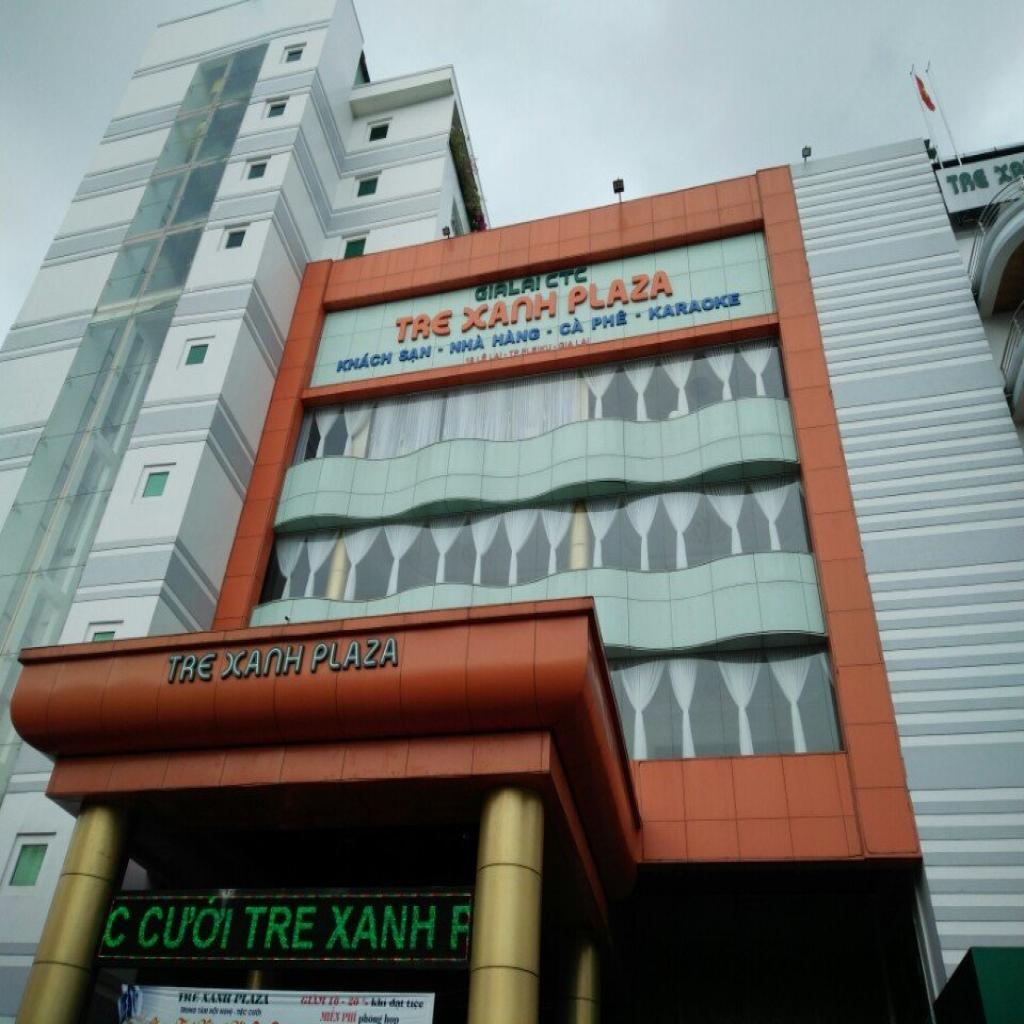text: (131, 894, 238, 956), (325, 903, 443, 954), (568, 270, 676, 316), (461, 290, 558, 334), (240, 904, 324, 954), (218, 644, 307, 683), (310, 637, 401, 673), (648, 291, 742, 323), (390, 307, 454, 346), (163, 653, 221, 687), (474, 274, 540, 303), (445, 903, 476, 957), (102, 903, 134, 953), (337, 348, 395, 374), (945, 168, 991, 198), (544, 264, 590, 292), (492, 326, 544, 348), (992, 156, 1024, 188), (591, 307, 629, 333), (449, 332, 486, 356), (397, 346, 433, 367), (558, 316, 587, 340), (506, 343, 552, 358), (233, 993, 274, 1008), (200, 990, 234, 1007), (177, 988, 203, 1006), (298, 993, 328, 1007), (319, 1007, 341, 1024), (405, 997, 426, 1013), (388, 997, 406, 1013), (369, 994, 388, 1008), (342, 1010, 360, 1024), (559, 338, 576, 352), (218, 1007, 236, 1018), (346, 994, 360, 1008), (488, 351, 504, 363), (328, 994, 342, 1007), (575, 337, 590, 349), (180, 1007, 198, 1017), (196, 1005, 210, 1017), (248, 1008, 264, 1018), (208, 1006, 221, 1018), (477, 351, 488, 364), (463, 356, 477, 366), (237, 1008, 248, 1018)
